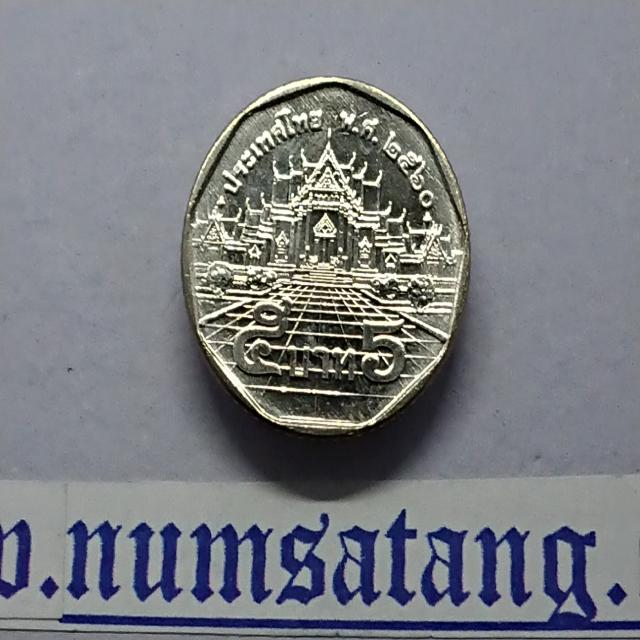5 Bath: (182, 74, 475, 445)
